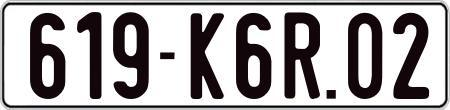0: (345, 12, 380, 98)
1: (75, 9, 105, 98)
2: (390, 10, 429, 102)
6: (30, 10, 70, 101), (233, 12, 273, 100)
9: (111, 10, 153, 100)
K: (190, 13, 223, 103)
R: (281, 9, 318, 96)
